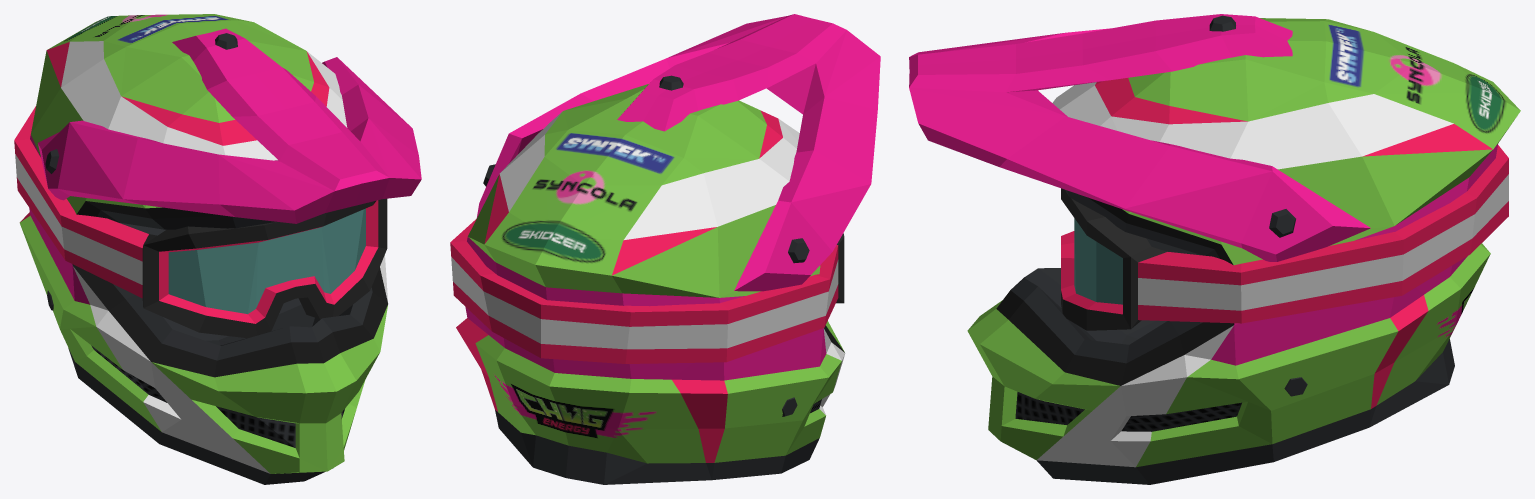
The model's file is SM_Chr_Attach_Helmet_04.fbx.
3 renders of one model, left to right at view 1: azimuth 30°, elevation 25°; view 2: azimuth 150°, elevation 25°; view 3: azimuth 270°, elevation 25°, orthographic. The views are drawn at different scales.
Visible parts, largest first — view 1: SM_Chr_Attach_Helmet_04; view 2: SM_Chr_Attach_Helmet_04; view 3: SM_Chr_Attach_Helmet_04.
Part boxes in pixels (<box>): SM_Chr_Attach_Helmet_04: <box>14,14,421,484</box>; SM_Chr_Attach_Helmet_04: <box>450,14,880,484</box>; SM_Chr_Attach_Helmet_04: <box>909,14,1520,484</box>.
Size of the model in its own units: 33.25 by 38.51 by 48.33.
